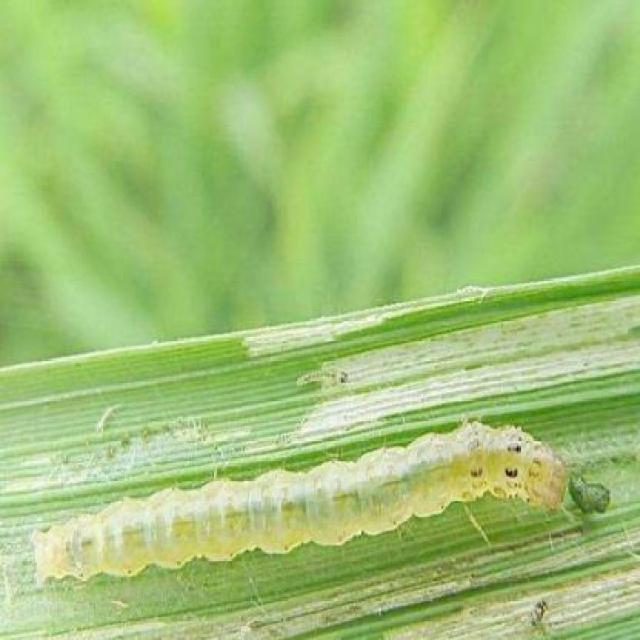leaf-folder: (32, 418, 583, 604)
